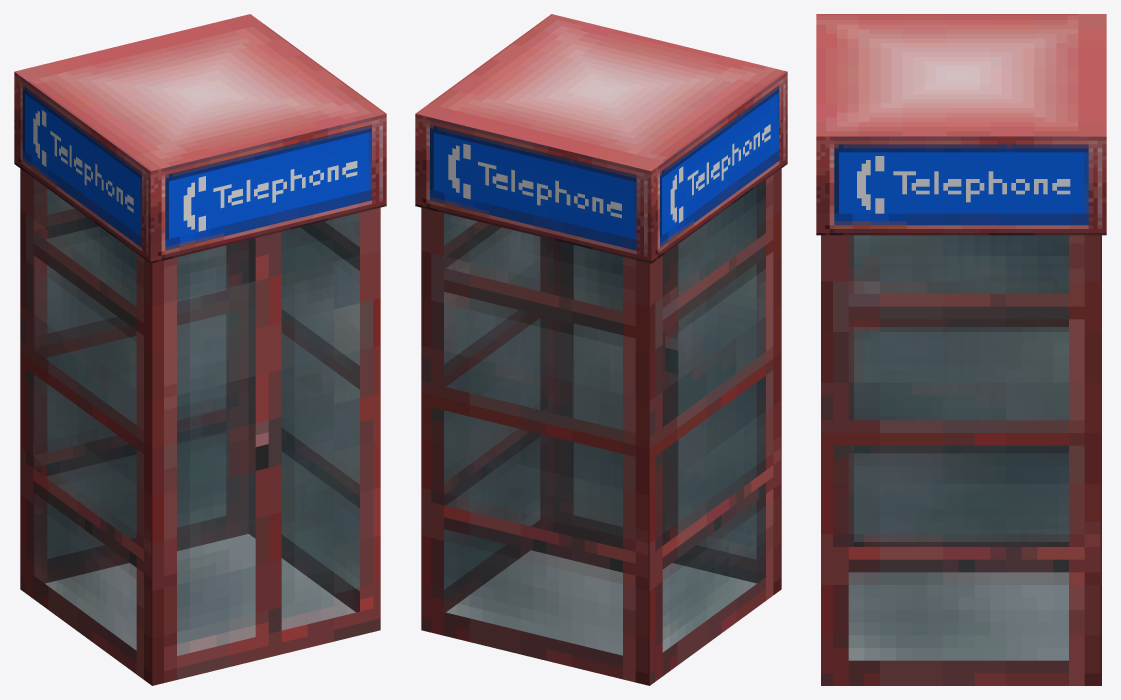
The model's file is Environment - Prop - Phone Booth - PEPhonBoot.glb.
3 views of the same model, side by side, from view 1: azimuth 30°, elevation 25°; view 2: azimuth 150°, elevation 25°; view 3: azimuth 270°, elevation 25° (orthographic). The views are drawn at different scales.
Visible parts, largest first — view 1: PEPHONBOOT; view 2: PEPHONBOOT; view 3: PEPHONBOOT.
Boxes of the visible parts, left/top/right/bottom form: PEPHONBOOT: left=14, top=14, right=386, bottom=685; PEPHONBOOT: left=415, top=14, right=787, bottom=685; PEPHONBOOT: left=816, top=14, right=1106, bottom=685.
Bounding box in the file's own units: 8.25 × 17.27 × 8.25.
Materials: 1 (1 with a texture image).
